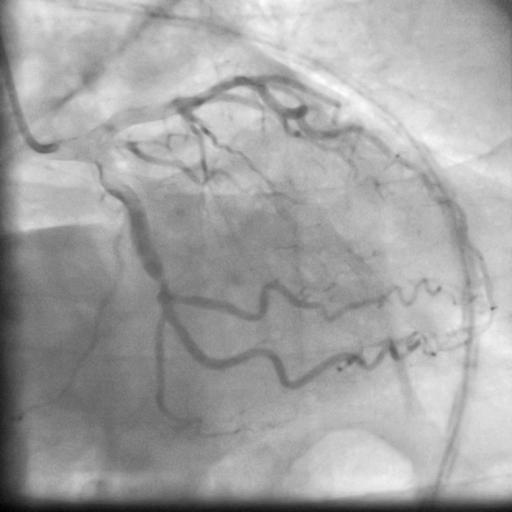Stenosis: (149, 271, 173, 291)
